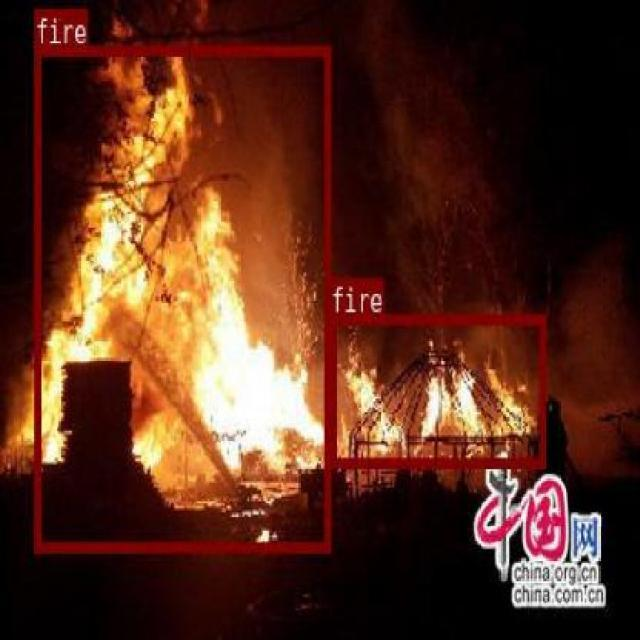Fire: (33, 44, 330, 550), (328, 312, 544, 466)
